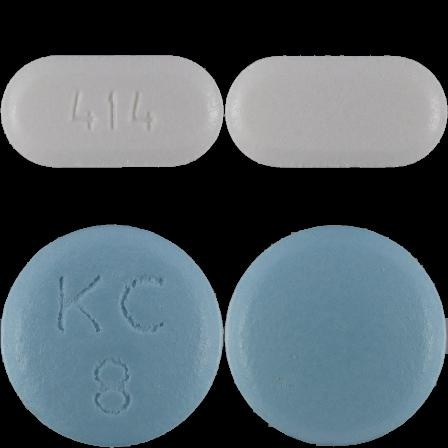66582-414: (0, 0, 224, 224)
